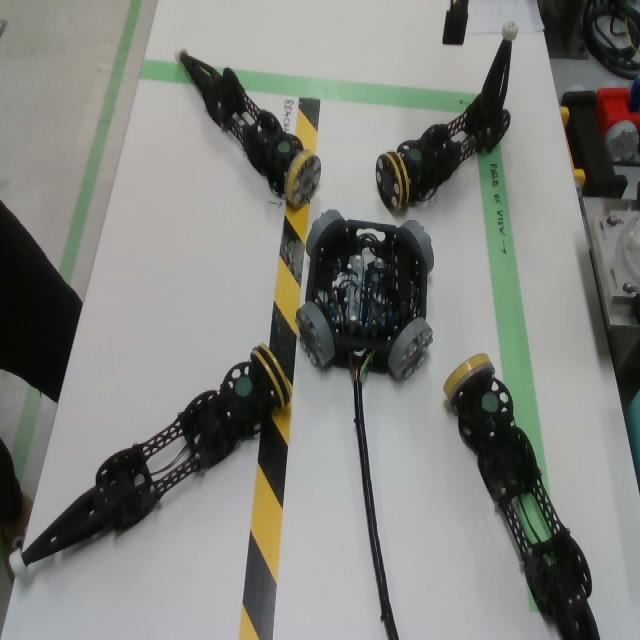body: (307, 220, 426, 373)
body_connector: (387, 317, 433, 381), (296, 301, 336, 368), (400, 220, 435, 275), (306, 209, 345, 257)
leg: (6, 344, 293, 580), (443, 353, 600, 640), (375, 20, 518, 215), (175, 47, 322, 209)
leg_connector: (443, 353, 496, 407), (251, 344, 293, 409), (375, 151, 411, 216), (284, 149, 321, 211)
leg_marker: (481, 392, 499, 413), (235, 376, 253, 396), (409, 149, 422, 163), (277, 141, 291, 153)
